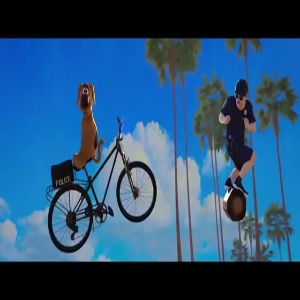Scooby: (70, 75, 99, 118)
